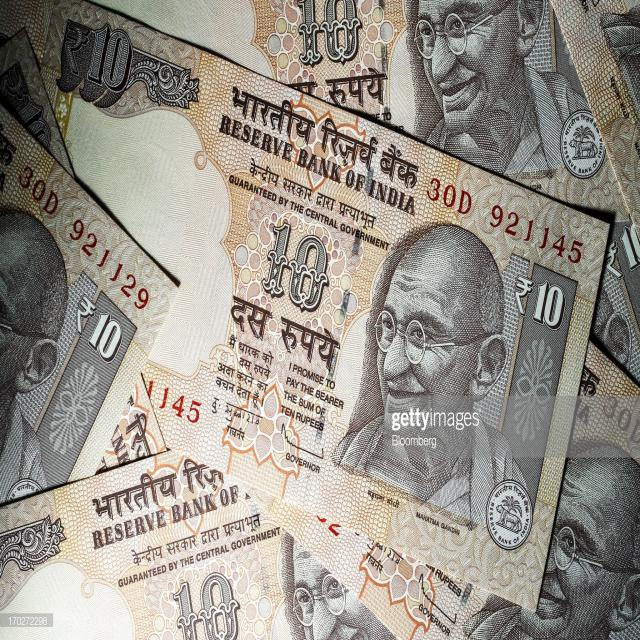10IndianRupees: (31, 39, 619, 595)
